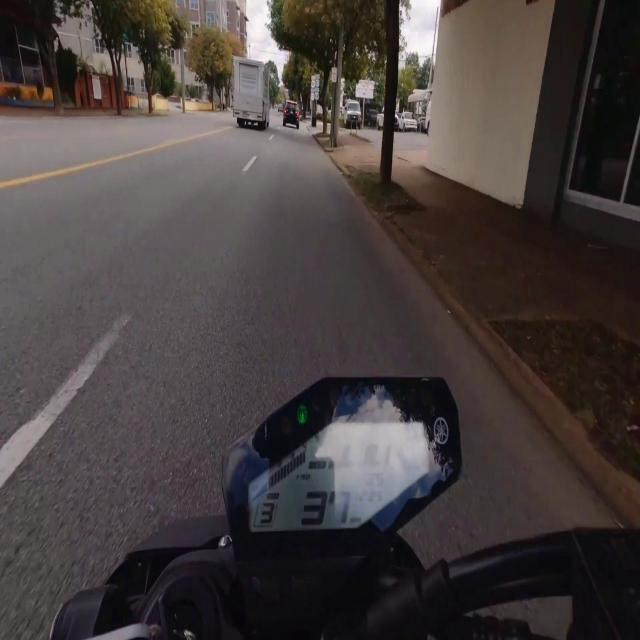car: (283, 101, 299, 128), (278, 104, 283, 112)
motorcycle: (50, 379, 639, 639)
